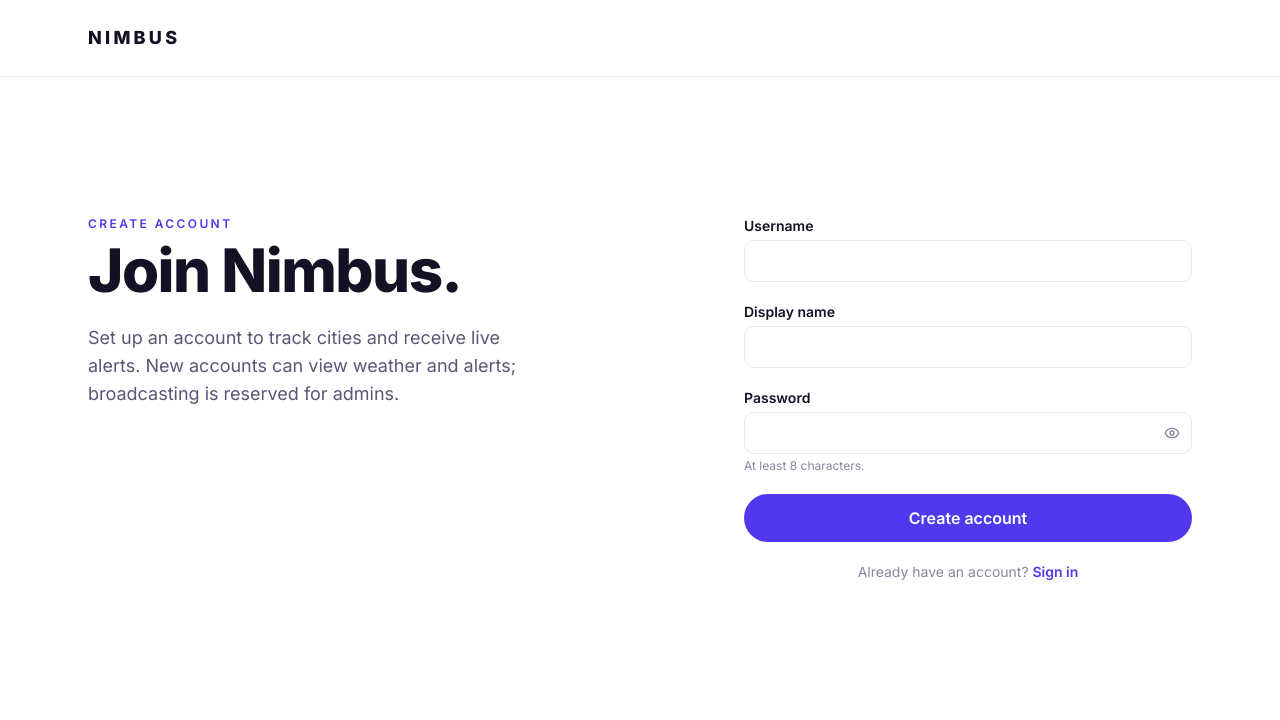
Test: RegisterPage › rejects a short password client-side
Type "newbie" into the field labelled "Username".
click(968, 260); type("newbie")  # box [744,240,1192,282]
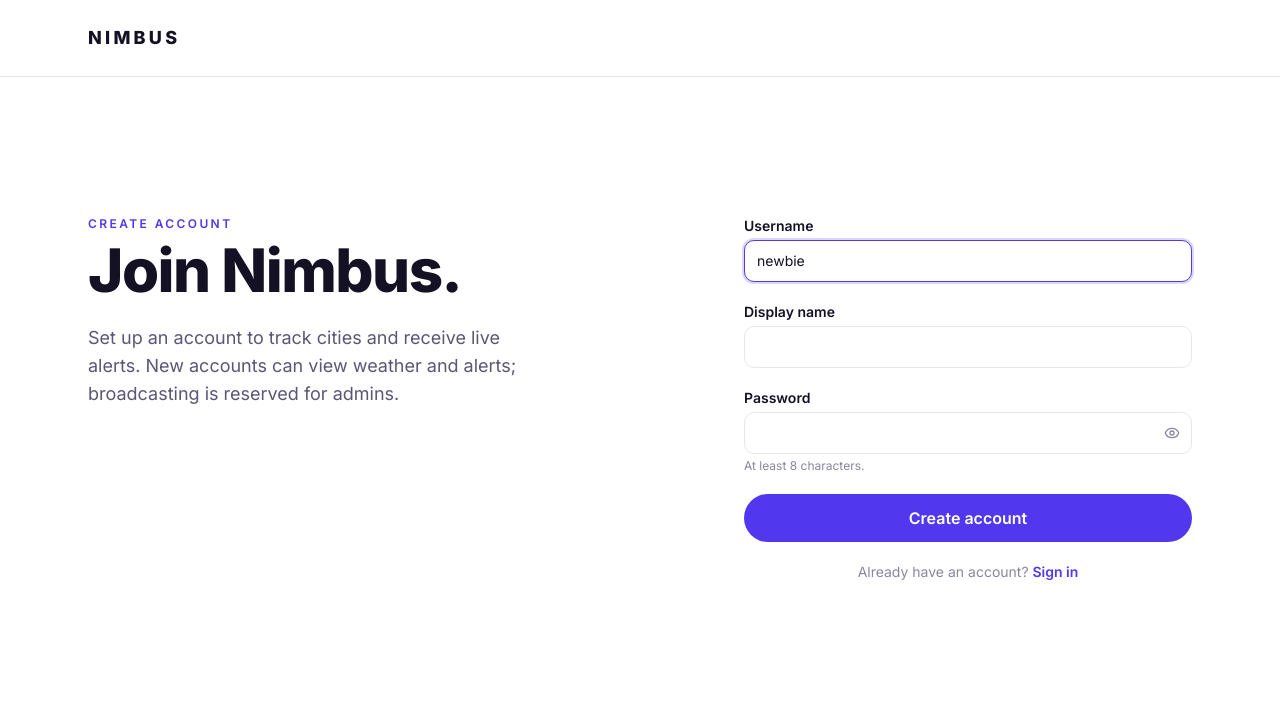
Type "New Bie" into the field labelled "Display name".
click(968, 346); type("New Bie")  # box [744,326,1192,368]
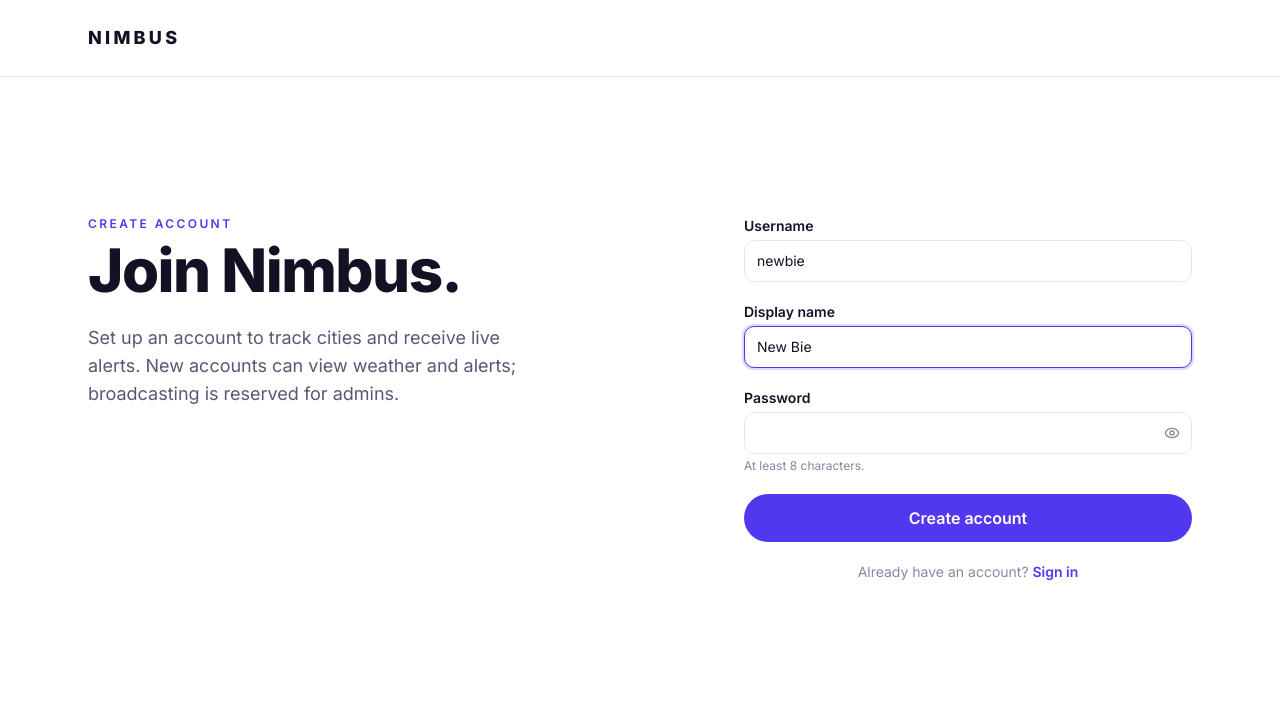
Type "short" into the password field labelled "Password".
click(968, 432); type("short")  # box [744,412,1192,454]
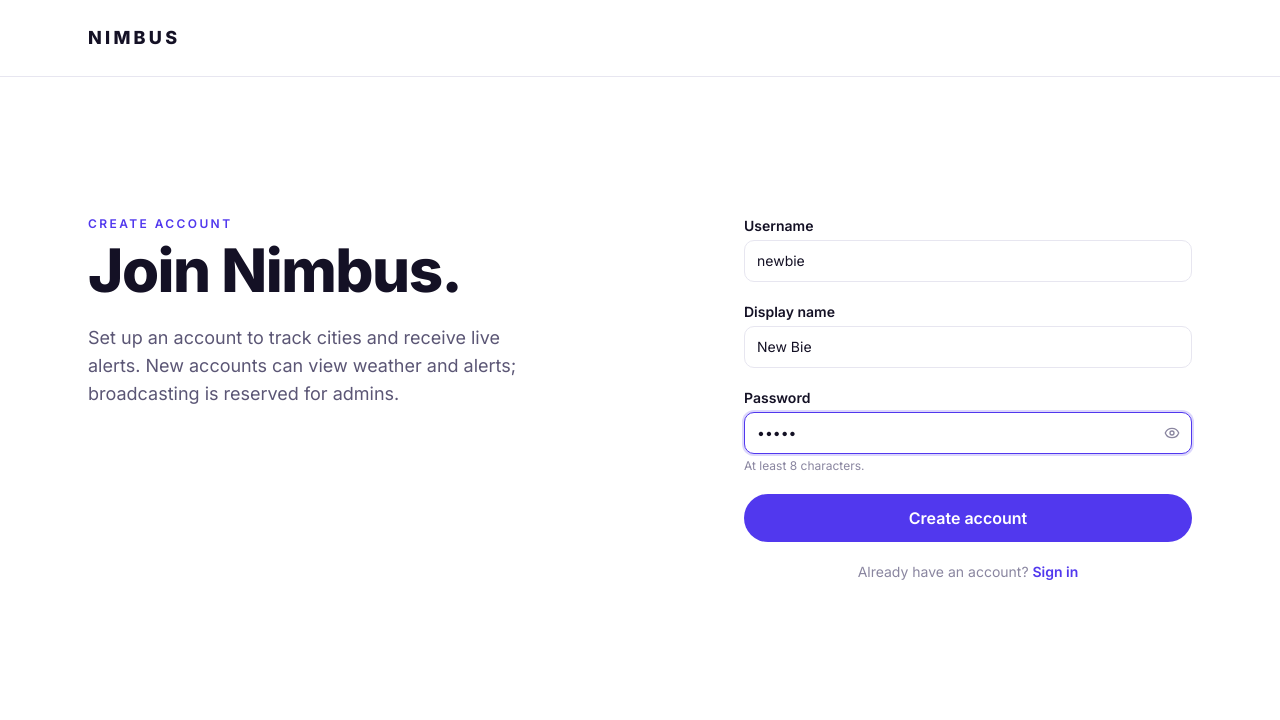
Click the button "Create account".
click(968, 518)  # box [744,494,1192,542]
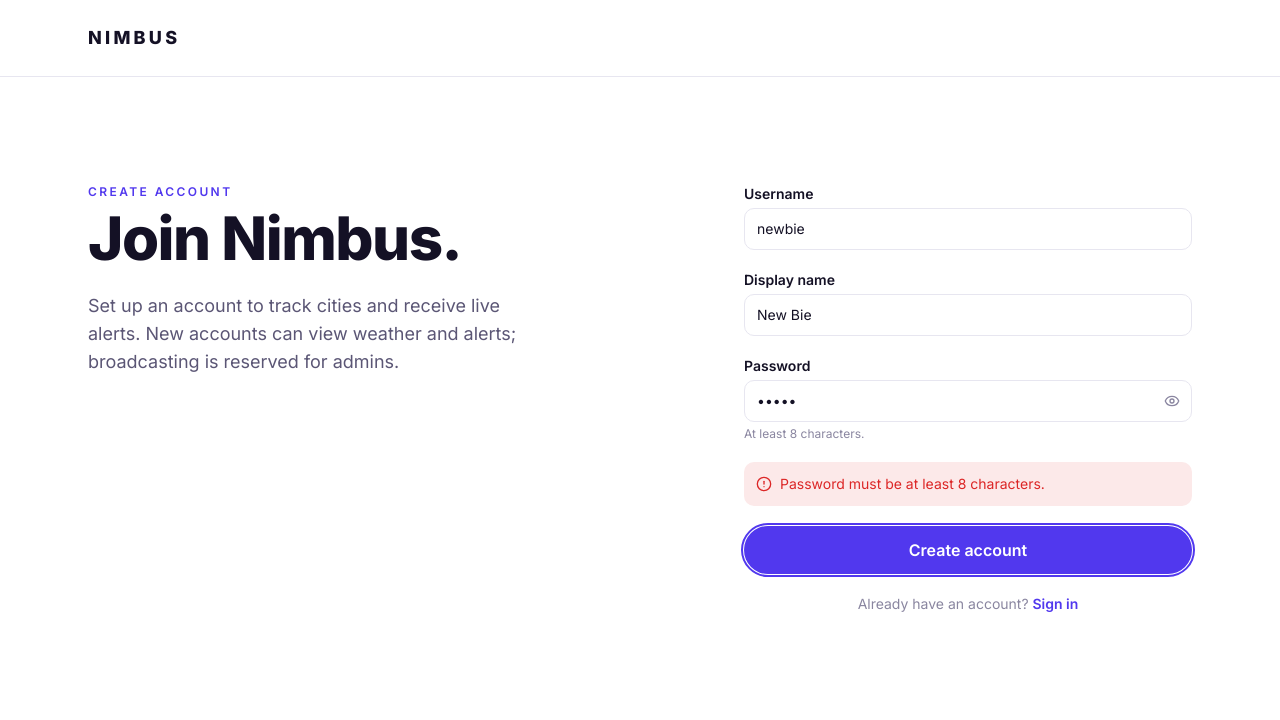
Expected: the message shows "at least 8 characters", [780,474,1045,492]
